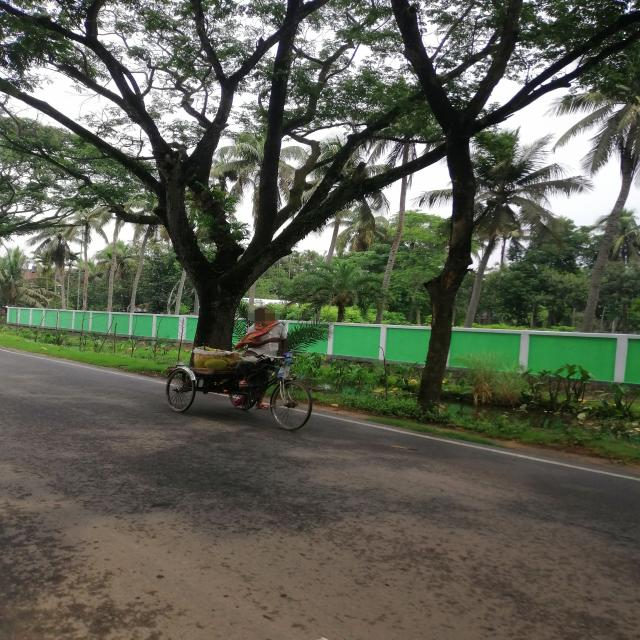Van: (144, 328, 336, 471)
